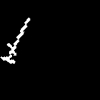double_crochet: (1, 18, 29, 62)
